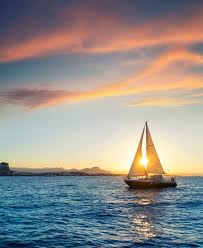boat: (124, 120, 176, 192)
